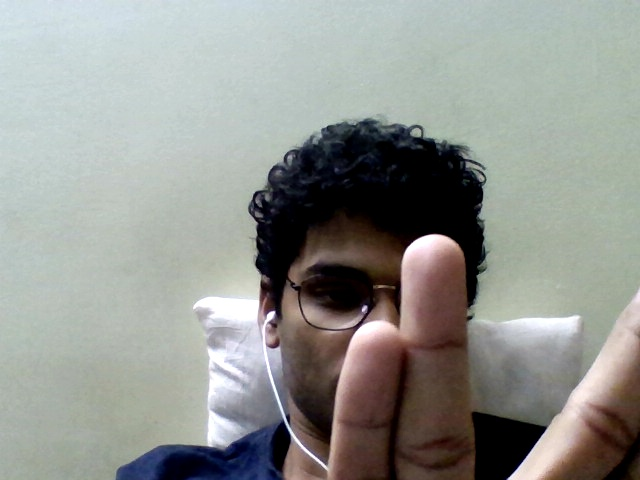LiveLong: (331, 233, 638, 480)
